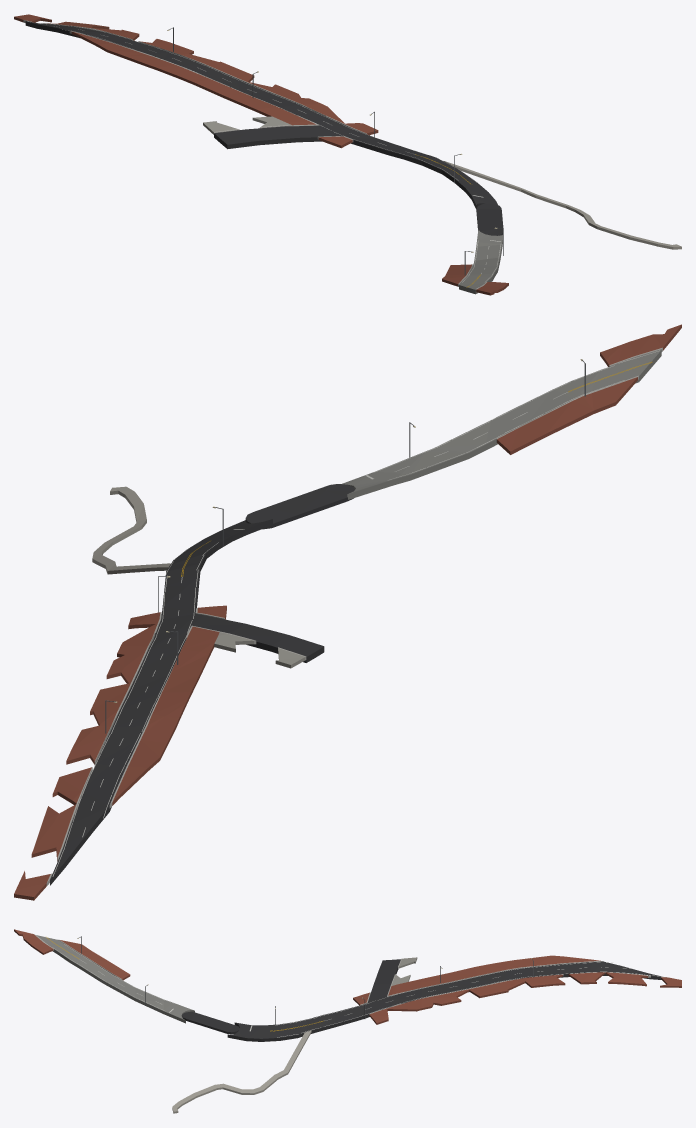
3 views of the same model, one above another, from view 1: azimuth 30°, elevation 25°; view 2: azimuth 150°, elevation 25°; view 3: azimuth 270°, elevation 25° (orthographic). The views are drawn at different scales.
Bounding box in the file's own units: 87.26 × 31.1 × 234.
